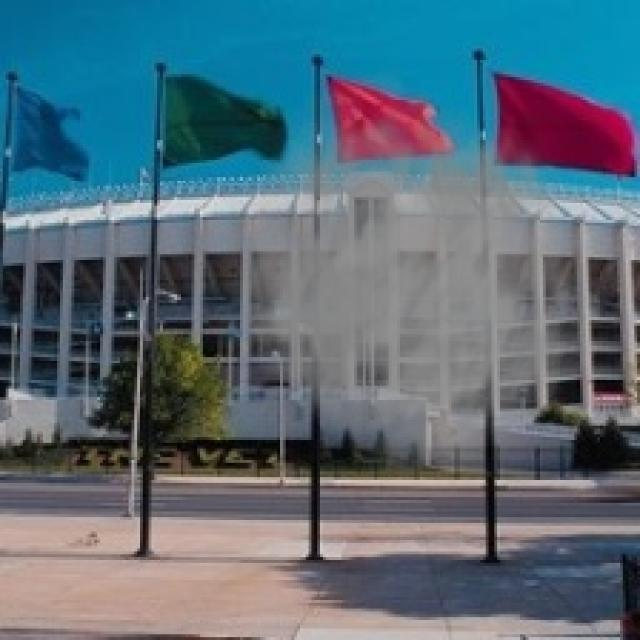Smoke: (206, 66, 594, 474)
